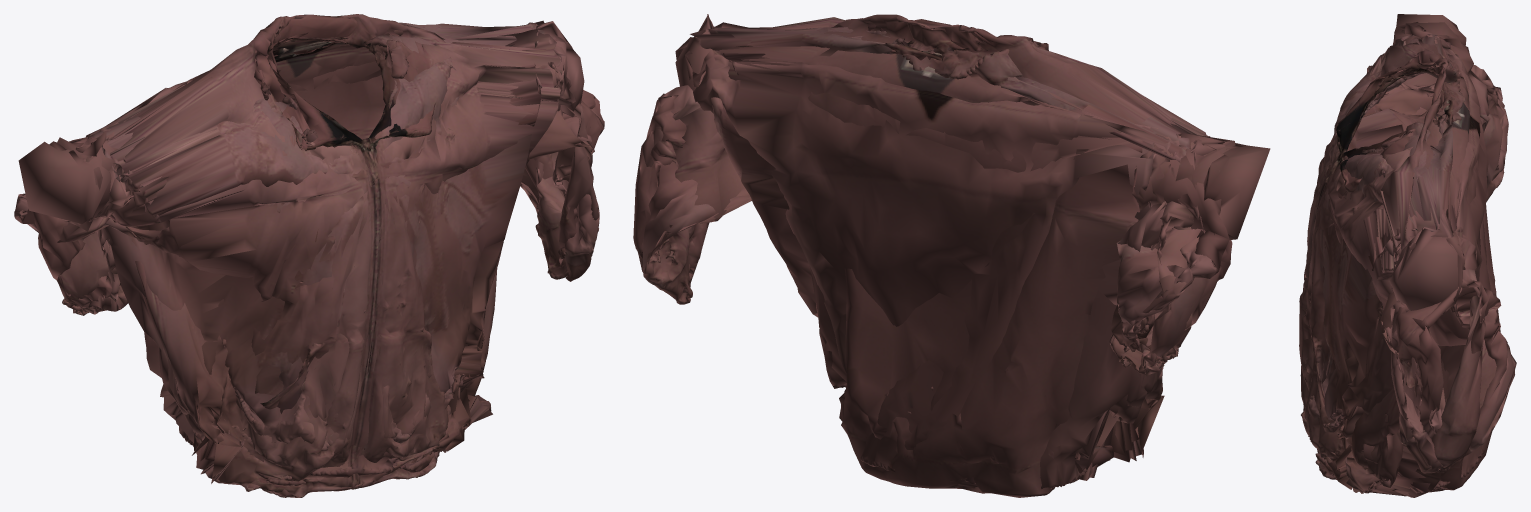
Rendered from cloth_simulated.glb.
3 renders of one model, left to right at view 1: azimuth 30°, elevation 25°; view 2: azimuth 150°, elevation 25°; view 3: azimuth 270°, elevation 25°, orthographic. The views are drawn at different scales.
Visible parts, largest first — view 1: Mesh_0.001; view 2: Mesh_0.001; view 3: Mesh_0.001.
Boxes of the visible parts, box(x1,y1,x2,y2) form: Mesh_0.001: box(14, 14, 604, 497); Mesh_0.001: box(633, 14, 1270, 497); Mesh_0.001: box(1299, 14, 1516, 497).
Bounding box in the file's own units: 1.03 × 0.76 × 0.3849.
1 material, 1 textured.
